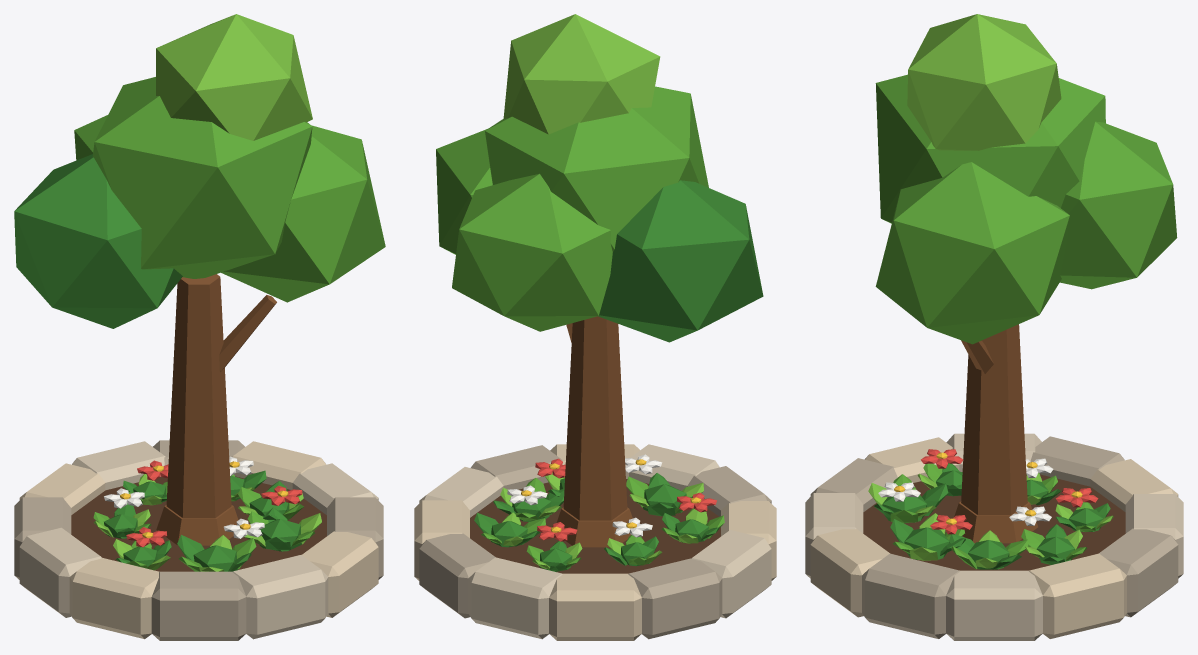
The model's file is small_tree_bed.glb.
3 renders of one model, left to right at view 1: azimuth 30°, elevation 25°; view 2: azimuth 150°, elevation 25°; view 3: azimuth 270°, elevation 25°, orthographic. The views are drawn at different scales.
Visible parts, largest first — view 1: part_crown, small_tree_bed; view 2: part_crown, small_tree_bed; view 3: small_tree_bed, part_crown.
Boxes of the visible parts, box(x1,y1,x2,y2) form: part_crown: box(14, 14, 385, 328); small_tree_bed: box(14, 274, 383, 640); part_crown: box(436, 14, 763, 342); small_tree_bed: box(414, 316, 776, 640); small_tree_bed: box(805, 324, 1183, 640); part_crown: box(875, 14, 1177, 344).
Size of the model in its own units: 1.63 by 2.57 by 1.56.
